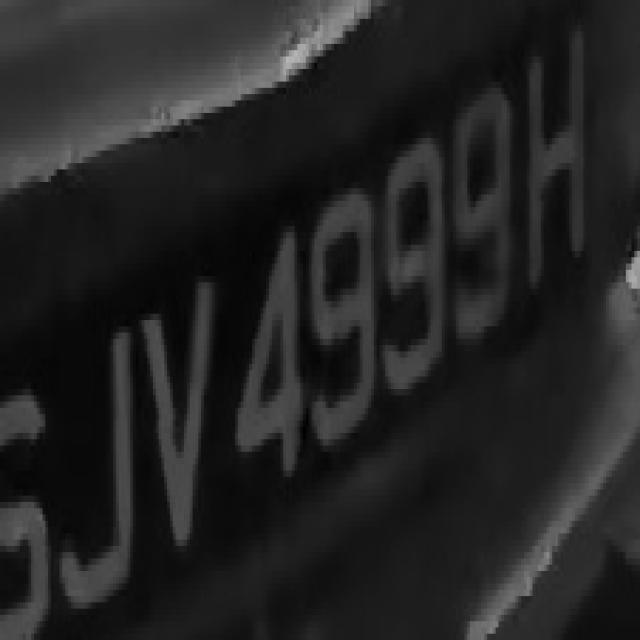4: (224, 188, 312, 515)
9: (371, 132, 456, 439), (436, 75, 524, 358), (303, 188, 374, 471)
H: (527, 6, 589, 301)
J: (0, 2, 1, 6)
V: (130, 232, 224, 577)
